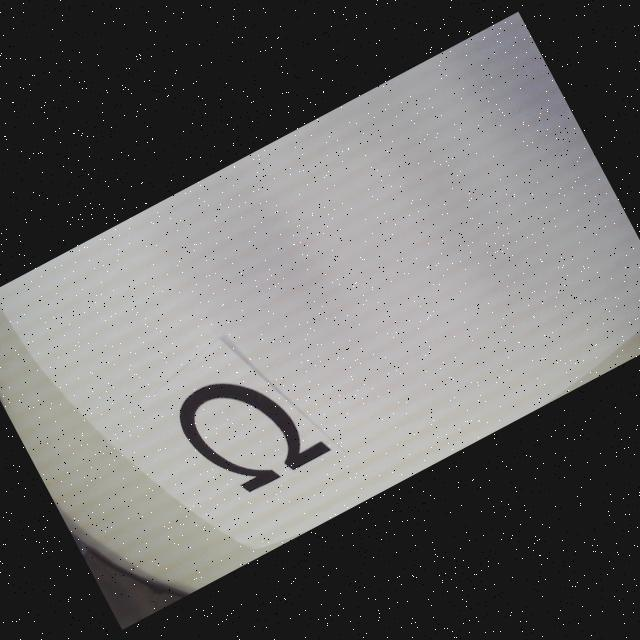OMEGA: (168, 347, 332, 508)
